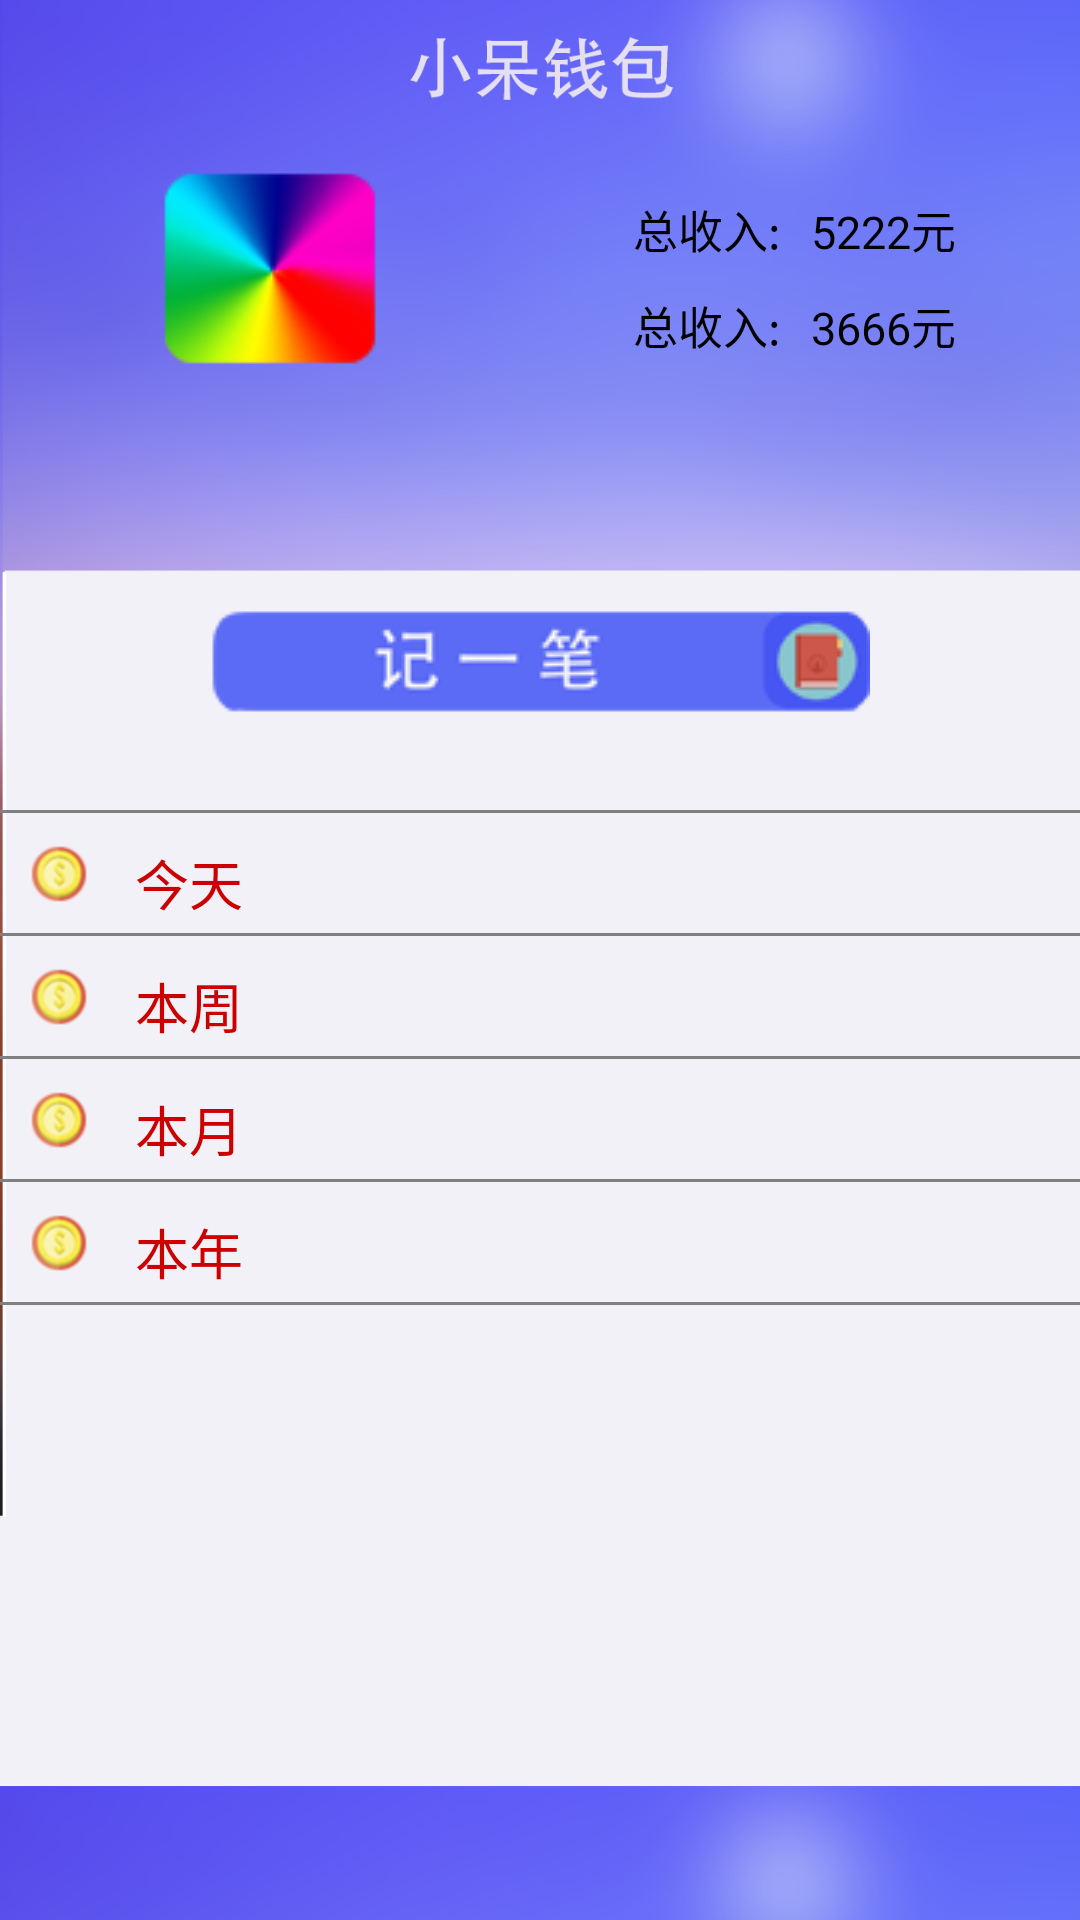

Named icons in this screenshot (1080w x 1920h) and their bounding boxes, (x1, y1, x2, y2):
money: (31, 846, 87, 902), (31, 969, 87, 1025), (31, 1092, 87, 1148), (31, 1215, 87, 1271)
